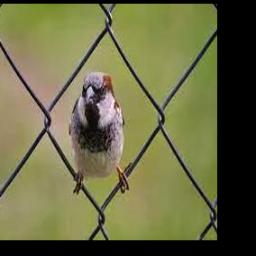Sparrow: (69, 71, 125, 181)
